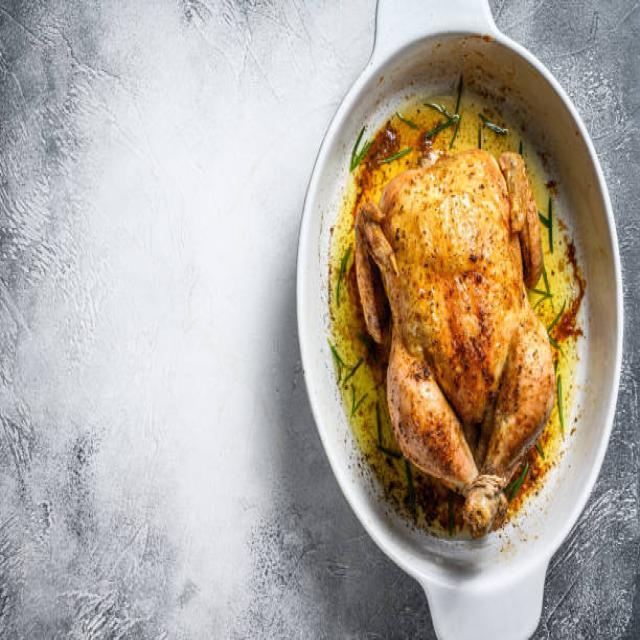Frango: (344, 99, 558, 543)
